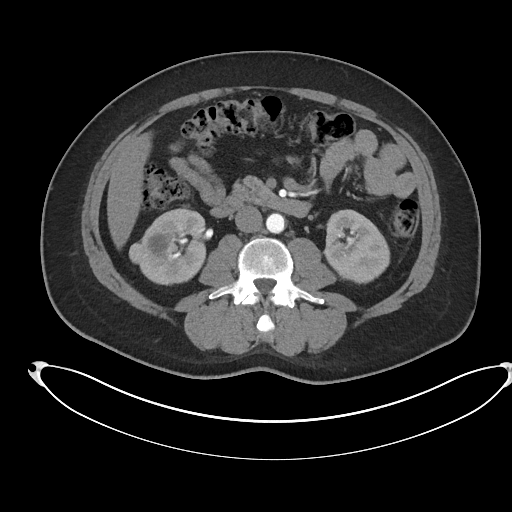Lesion: (126, 242, 147, 267)
